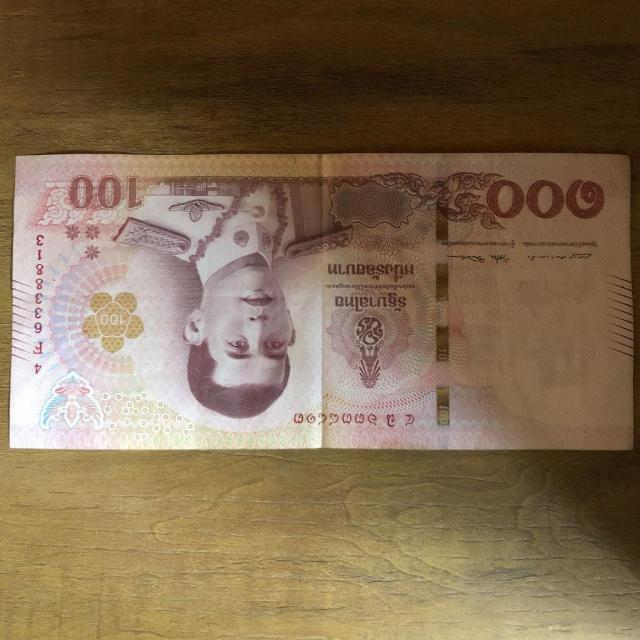THAI100: (9, 154, 633, 450)
